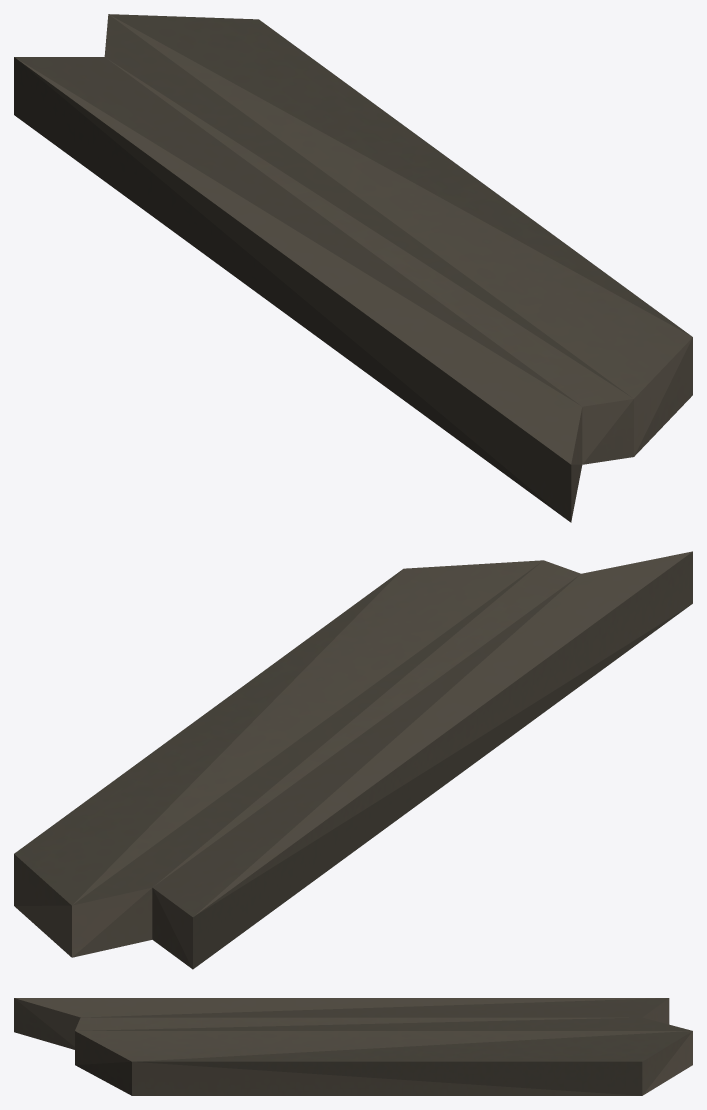
File: Wood_1H.fbx
The picture shows the model from 3 angles, top to bottom: view 1: azimuth 30°, elevation 25°; view 2: azimuth 150°, elevation 25°; view 3: azimuth 270°, elevation 25°; orthographic projection. The views are drawn at different scales.
Visible parts, largest first — view 1: pCube997; view 2: pCube997; view 3: pCube997.
Boxes of the visible parts, bbox=[...] form: pCube997: bbox=[14, 14, 692, 522]; pCube997: bbox=[14, 551, 692, 969]; pCube997: bbox=[14, 998, 692, 1095].
Bounding box in the file's own units: 0.36 × 0.09 × 1.62.
